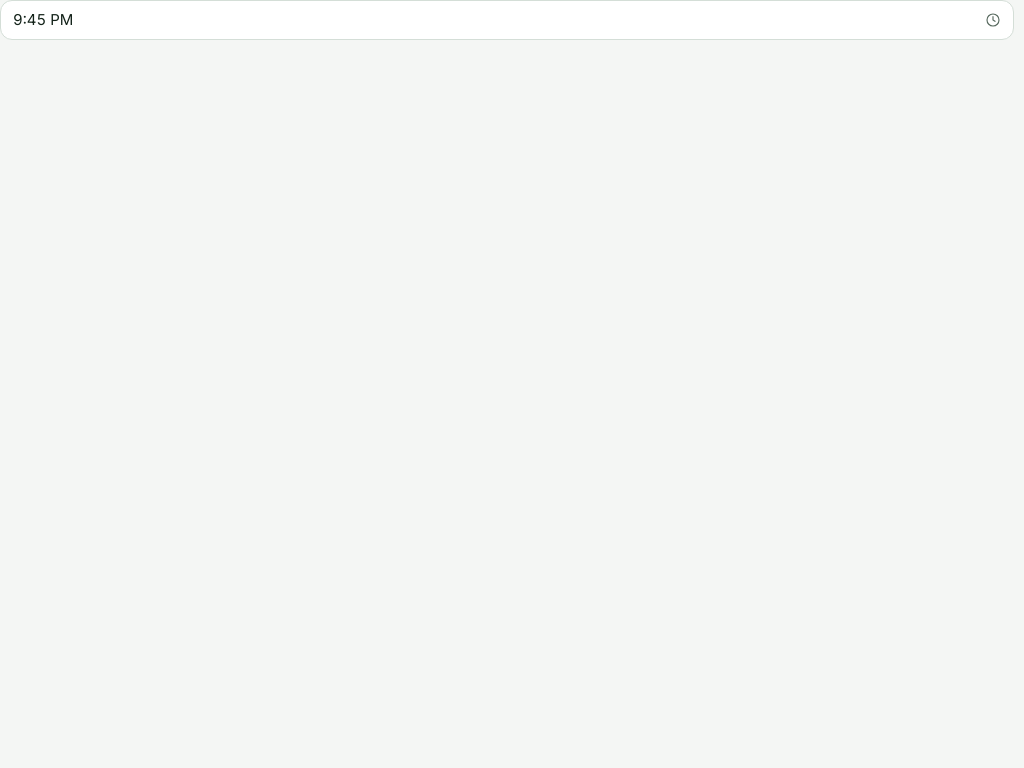
Test: NuqtaTimePicker — 12-hour mode › shows a period control and a 1-12 dial
Click the dropdown named "Pick time": (43, 20) x1=0 y1=0 x2=1014 y2=40
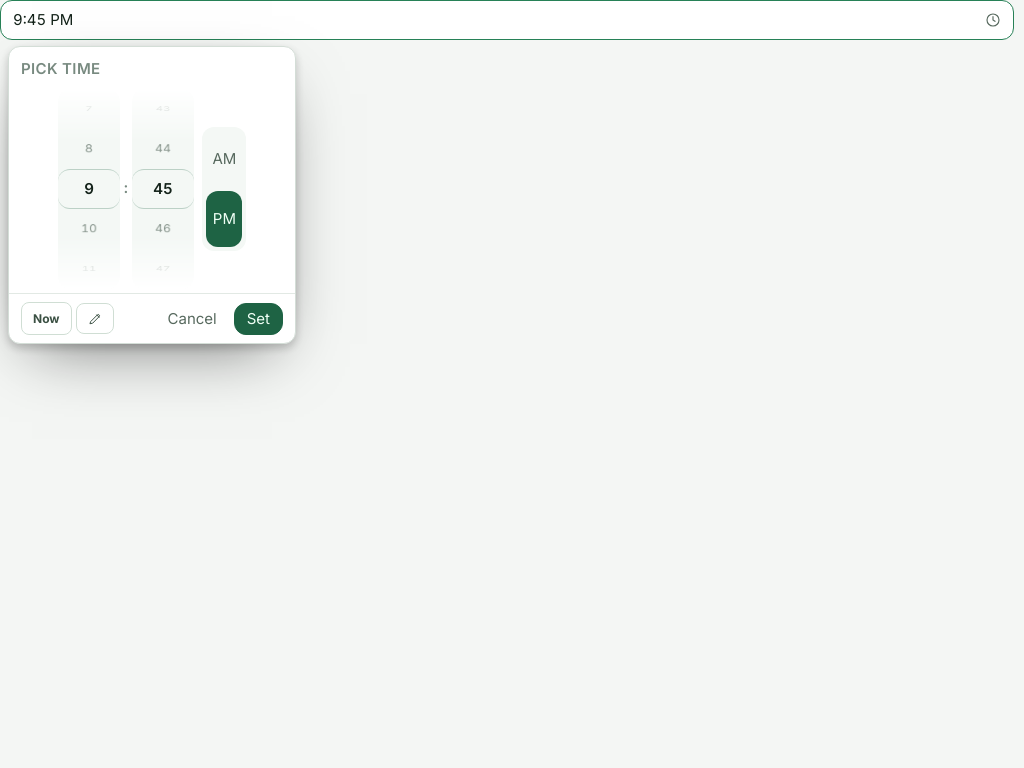
Now the element named "AM or PM" is shown, box x1=202 y1=127 x2=246 y2=251
